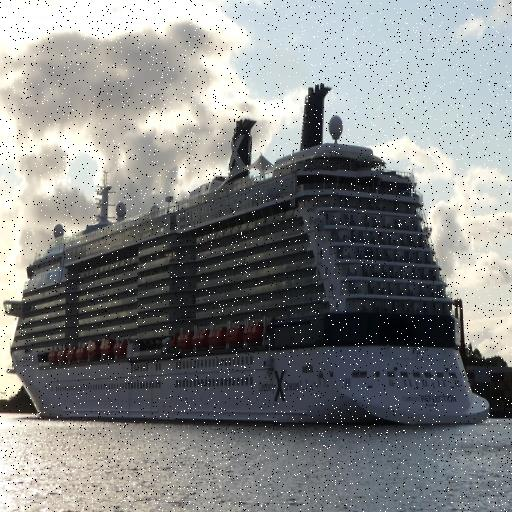cruises: (3, 82, 497, 436)
